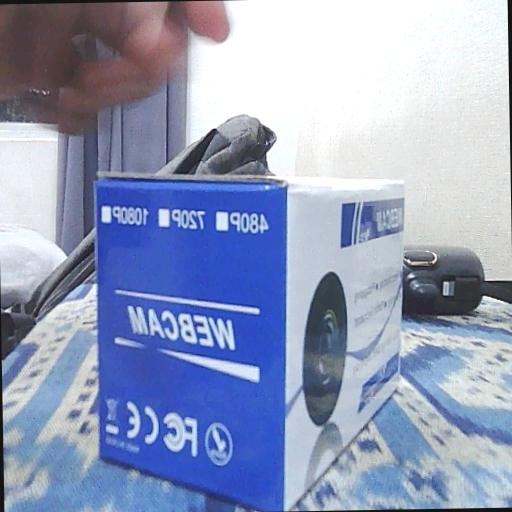webcam_box: (92, 165, 411, 512)
